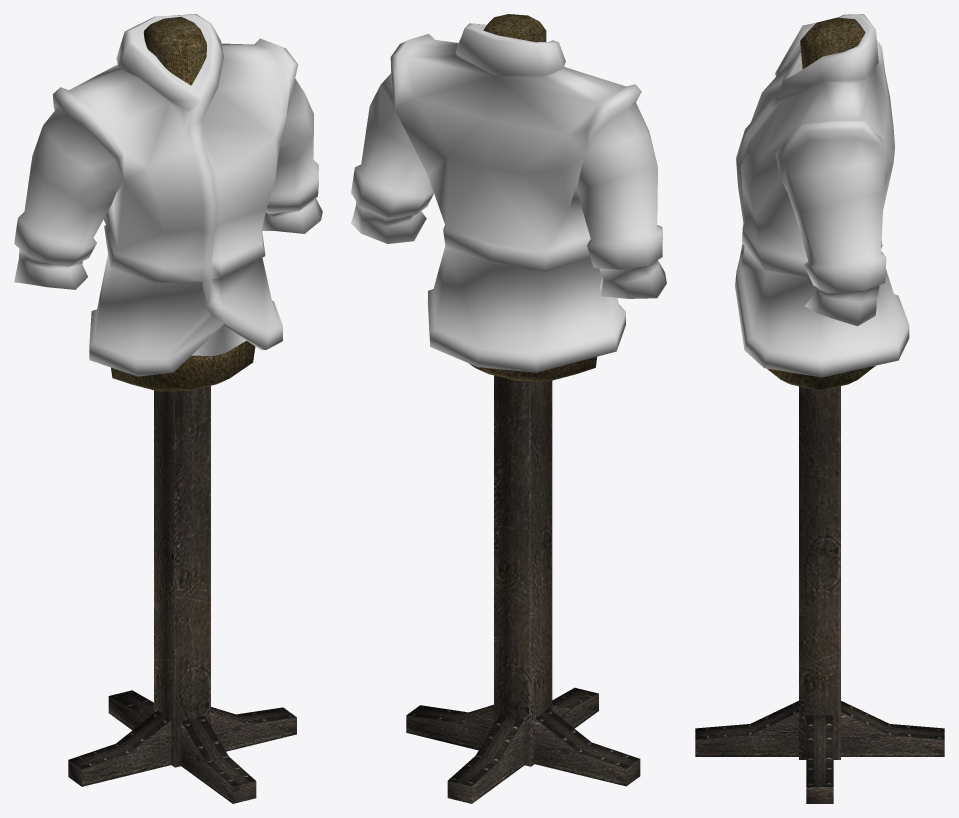
File: KM_VOB_ARMORER_ARMOR_03.glb
3 views of the same model, side by side, from view 1: azimuth 30°, elevation 25°; view 2: azimuth 150°, elevation 25°; view 3: azimuth 270°, elevation 25° (orthographic). The views are drawn at different scales.
Parts seen in each view (by area): view 1: Mesh; view 2: Mesh; view 3: Mesh.
Boxes of the visible parts, x1=… form: Mesh: x1=14, y1=14, x2=322, y2=803; Mesh: x1=351, y1=14, x2=666, y2=803; Mesh: x1=695, y1=14, x2=944, y2=803.
Size of the model in its own units: 0.7072 by 1.64 by 0.5079.
Materials: 3 (2 with a texture image).
